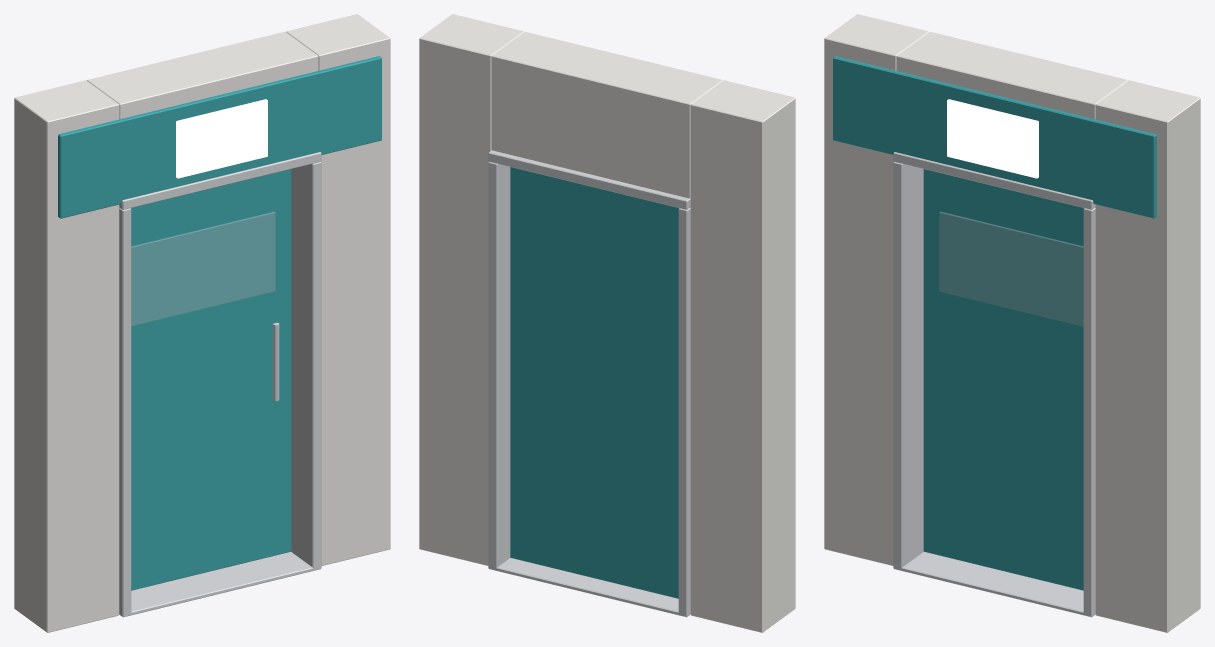
Rendered from motorway-services-and-truck-park-toilets-entrance-97042ccd__35939.glb.
3 renders of one model, left to right at view 1: azimuth 30°, elevation 25°; view 2: azimuth 150°, elevation 25°; view 3: azimuth 330°, elevation 25°, orthographic.
Parts seen in each view (by area): view 1: toilets-entrance, wc-door/accent, wc-door/glass, wc-door/metal; view 2: toilets-entrance, wc-door/accent; view 3: toilets-entrance, wc-door/accent, wc-door/glass.
Boxes of the visible parts, x1,y1,x2,y2 form: toilets-entrance: (14,14,390,632); wc-door/accent: (131,169,291,590); wc-door/glass: (131,212,275,325); wc-door/metal: (273,322,279,400); toilets-entrance: (419,14,795,632); wc-door/accent: (510,167,678,598); toilets-entrance: (824,14,1200,632); wc-door/accent: (923,169,1083,590); wc-door/glass: (939,212,1083,325).
Size of the model in its own units: 1.9 by 2.7 by 0.386.
